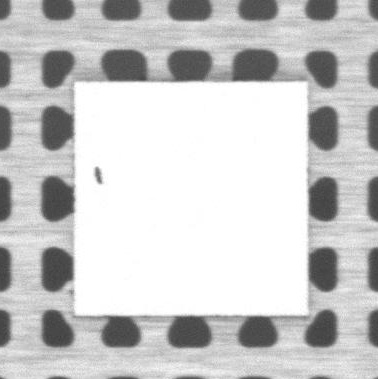DIE_INK: (93, 164, 103, 187)
